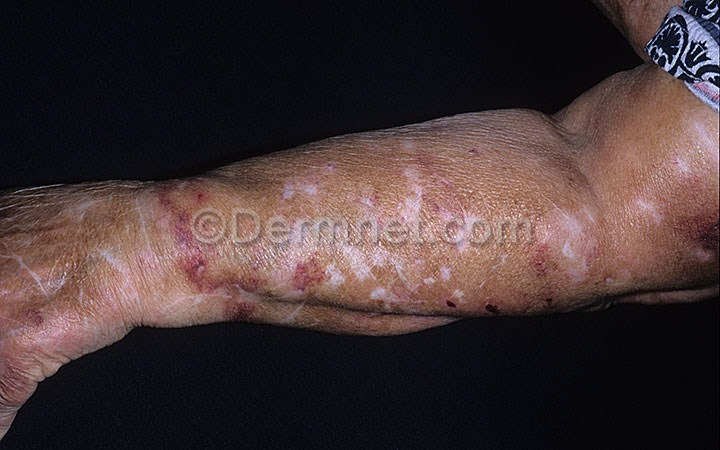Melasma: (0, 248, 594, 334), (275, 148, 518, 214), (118, 177, 217, 210)
